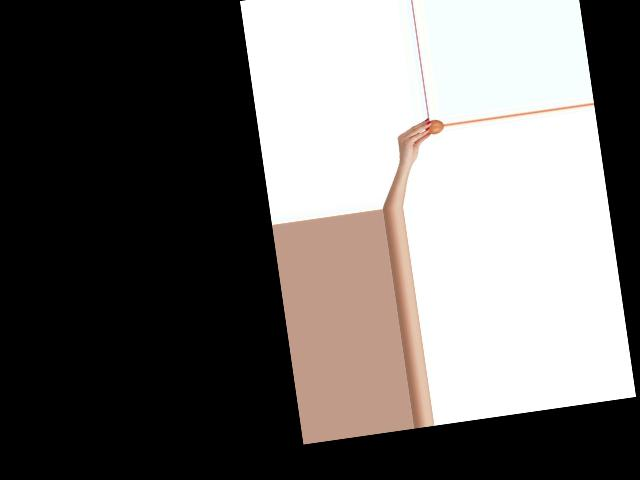egg: (424, 119, 444, 135)
